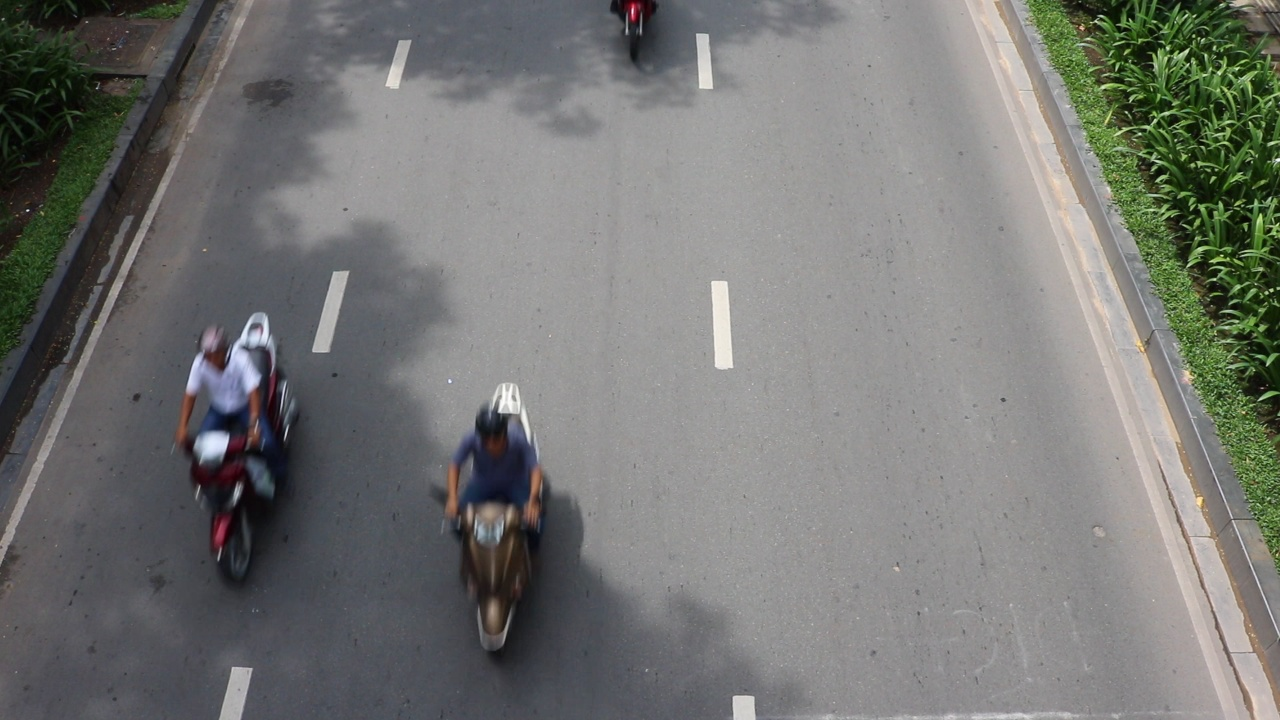motorcycle: (176, 419, 269, 586), (454, 493, 535, 653)
